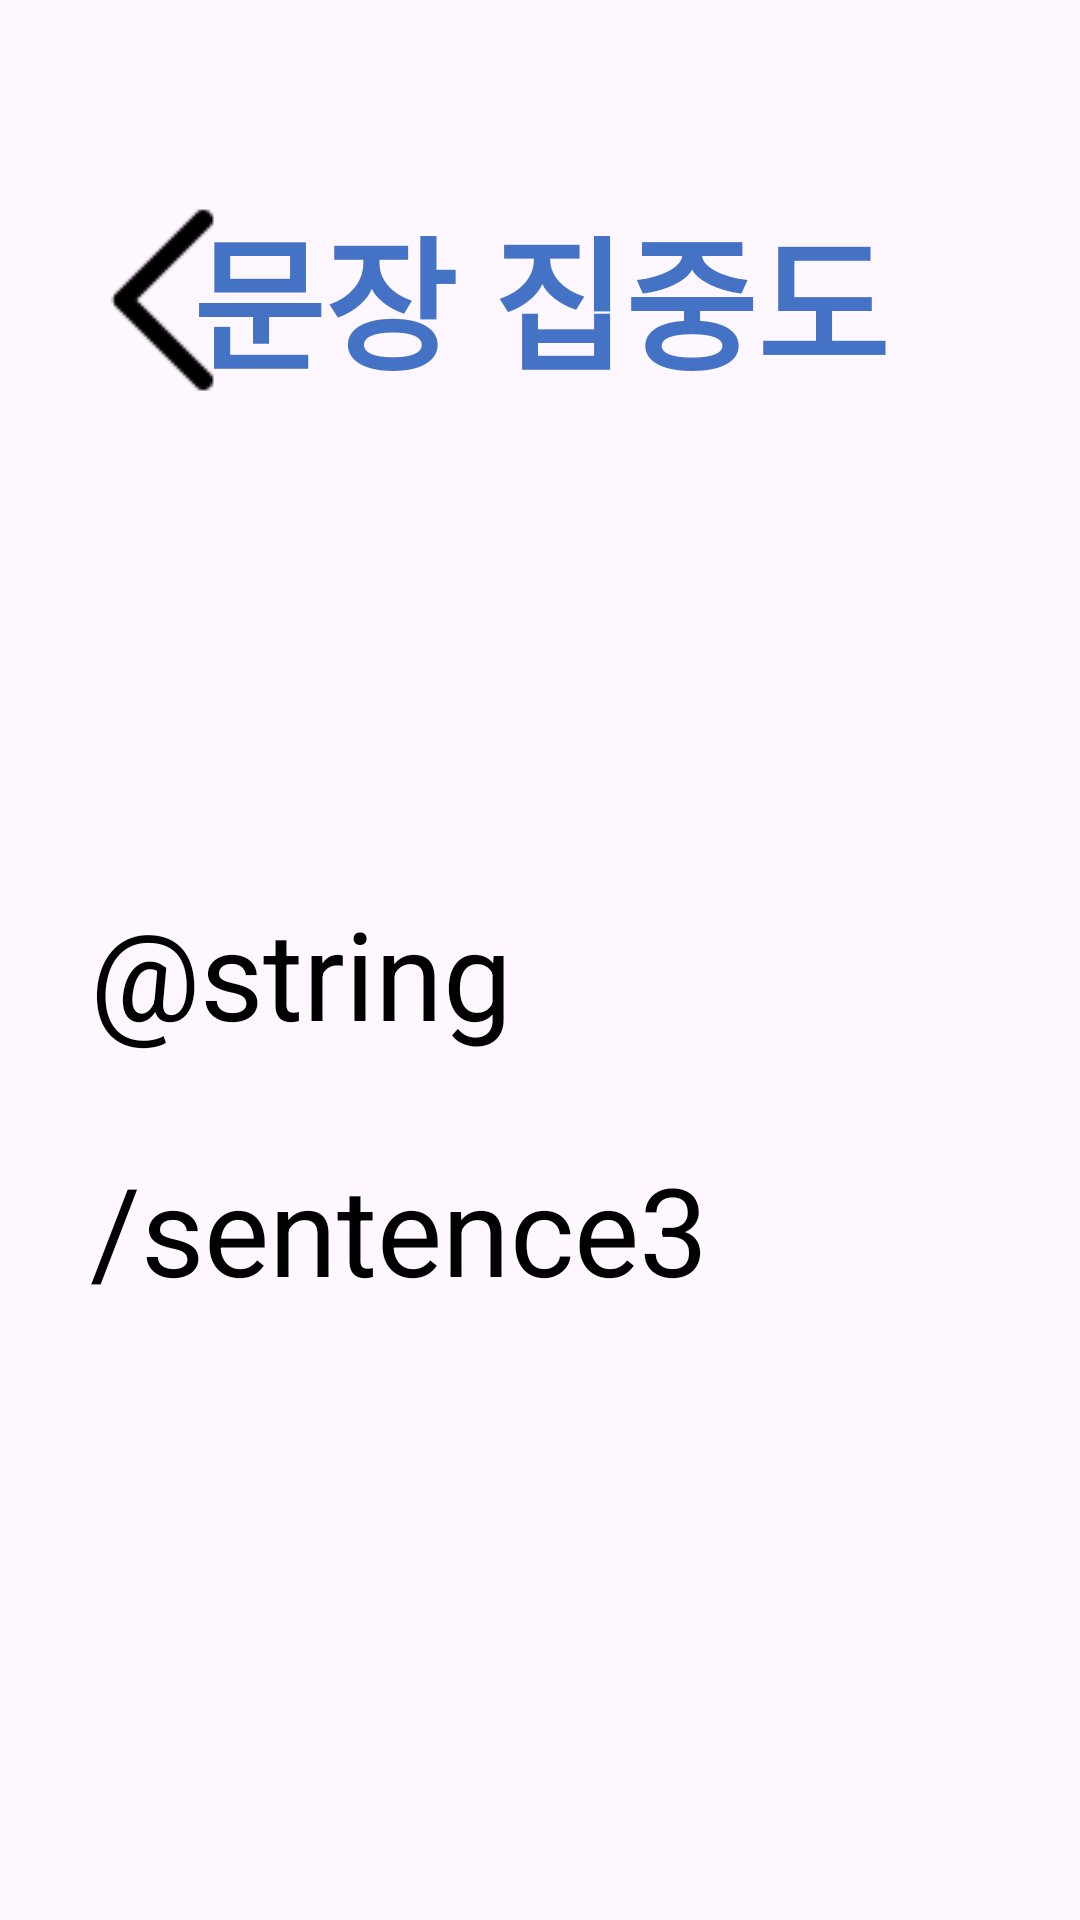

Named icons in this screenshot (1080x1920) and their bounding boxes, region(x1, y1, x2, y2):
arrow back: region(111, 209, 214, 391)
